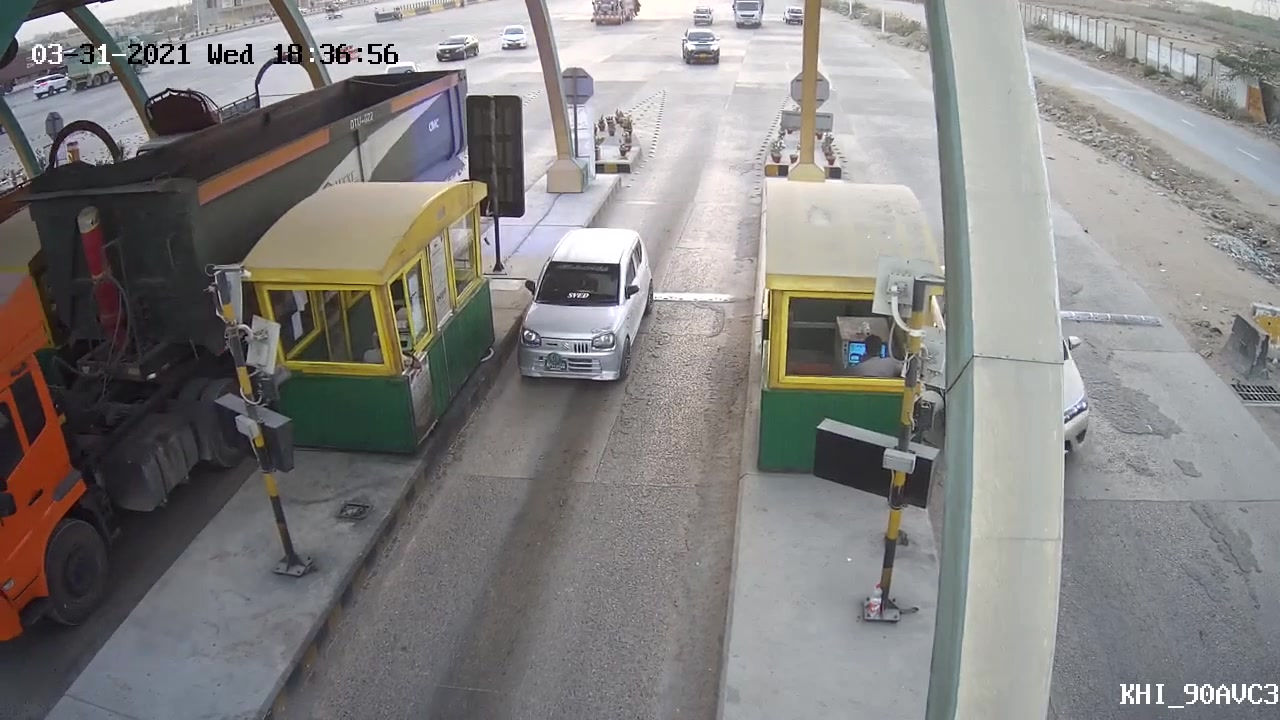F1: (508, 222, 669, 387)
